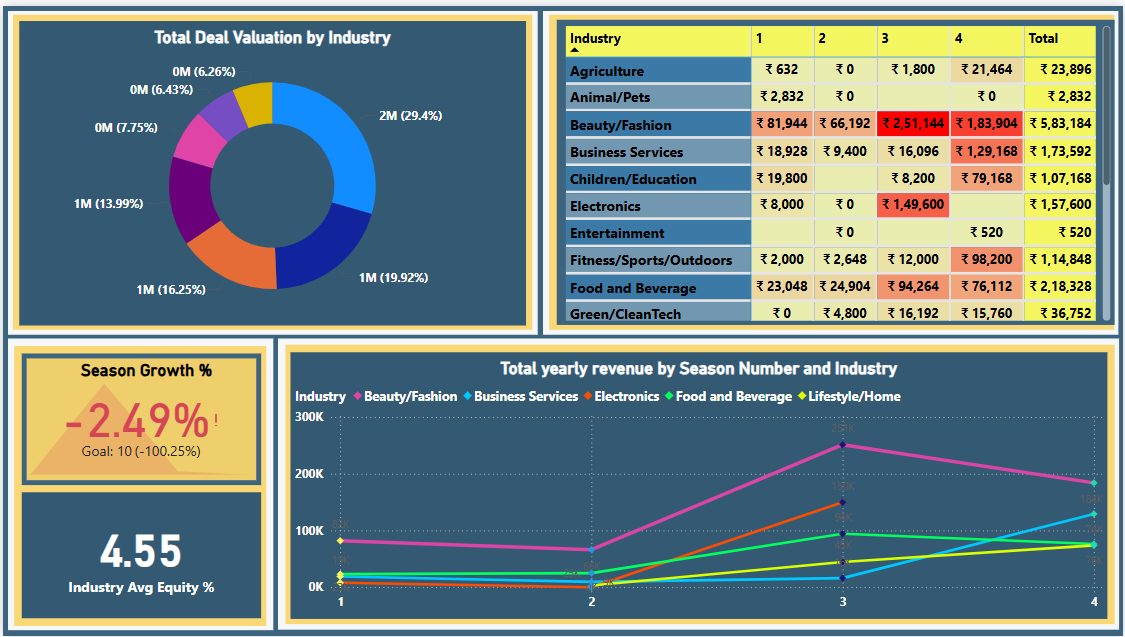

What the dashboard file says about the page in this screenshot:
{"tool":"powerbi","page":{"name":"Industrial analysis","canvas":[1280,720],"ordinal":4},"visuals":[{"type":"shape","box":[617.4,5.3,657.9,370],"z":0},{"type":"shape","box":[624.4,10,645.6,360],"z":1000},{"type":"actionButton","box":[11.7,16.7,50,40],"z":2000},{"type":"shape","box":[313.8,380,961.2,333.1],"z":3000},{"type":"shape","box":[322.3,387.7,947.7,319.2],"z":4000},{"type":"shape","box":[5.4,5.4,605.4,370],"z":5000},{"type":"shape","box":[11.1,10,593.3,360],"z":6000},{"type":"pivotTable","fields":{"Rows":["Shark Tank India (2).Industry"],"Columns":["Shark Tank India (2).Season Number"],"Values":["Shark Tank India (2).Total yearly revenue"]},"box":[632.2,15.6,637.8,348.9],"z":7000},{"type":"lineChart","fields":{"Category":["Shark Tank India (2).Season Number"],"Y":["Shark Tank India (2).Total yearly revenue"],"Series":["Shark Tank India (2).Industry"]},"box":[328.3,395,933.3,305],"z":8000},{"type":"donutChart","title":"Top 7 Industries By Deal Valuation","fields":{"Category":["Shark Tank India (2).Industry"],"Y":["Shark Tank India (2).Total Deal Valuation"]},"box":[18.9,16.7,578.9,347.8],"z":9000},{"type":"shape","box":[5,380,303.3,333.3],"z":10000},{"type":"shape","box":[13.3,388.3,288.3,320],"z":11000},{"type":"kpi","title":"Seasonal deal valuation Growth %","fields":{"Indicator":["Shark Tank India (2).Season Growth %"],"TrendLine":["Shark Tank India (2).Season Number"],"Goal":["Shark Tank India (2).Seasonal target growth"]},"box":[21.2,397.5,273.8,150],"z":12000},{"type":"card","fields":{"Values":["Shark Tank India (2).Industry Avg Equity %"]},"box":[21.2,556.2,273.8,143.8],"z":13000}]}

Visuals, with their boxes in screenshot pixels (x1, y1, x2, y2), scaled from the page's 1280x720 canvas onto the 1125x637 screenshot:
shape: 543,5,1121,332
shape: 549,9,1116,327
actionButton: 10,15,54,50
shape: 276,336,1121,631
shape: 283,343,1116,625
shape: 5,5,537,332
shape: 10,9,531,327
pivotTable - Shark Tank India (2).Industry x Shark Tank India (2).Season Number: 556,14,1116,322
lineChart - Shark Tank India (2).Season Number x Shark Tank India (2).Total yearly revenue: 289,349,1109,619
"Top 7 Industries By Deal Valuation" donutChart: 17,15,525,322
shape: 4,336,271,631
shape: 12,344,265,627
"Seasonal deal valuation Growth %" kpi: 19,352,259,484
card - Shark Tank India (2).Industry Avg Equity %: 19,492,259,619
